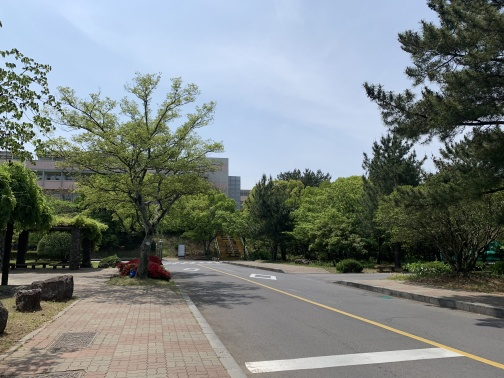Ara Hall: (431, 228, 504, 262)
College Of Education: (1, 146, 259, 229)
